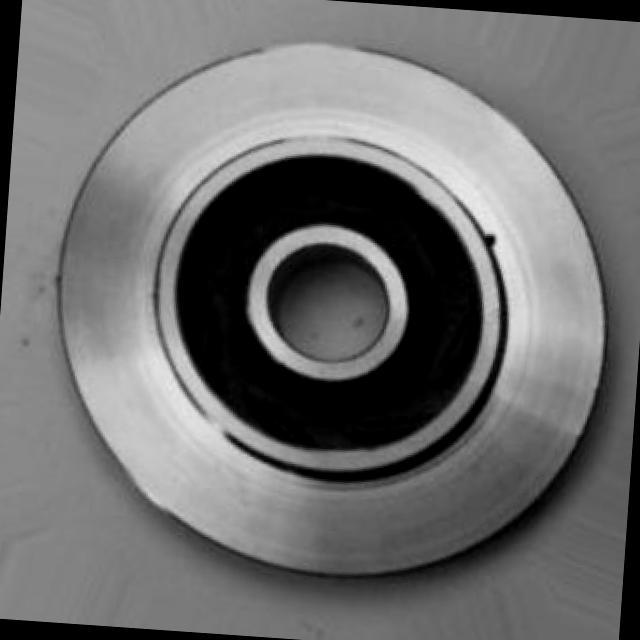Defect: (481, 228, 496, 256)
